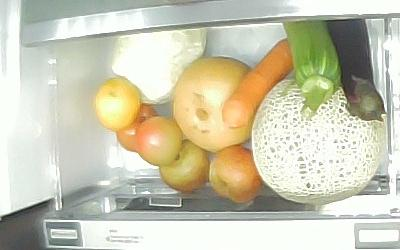cabbage: (109, 27, 208, 103)
carrot: (221, 38, 295, 128)
eggplant: (325, 20, 387, 122)
melon: (252, 73, 387, 204)
pear: (174, 56, 266, 153)
prune: (209, 144, 262, 205), (157, 140, 209, 193), (136, 116, 182, 164)
tangerine: (93, 78, 142, 133)
tomato: (112, 103, 159, 153)
zucchini: (282, 22, 342, 120)
